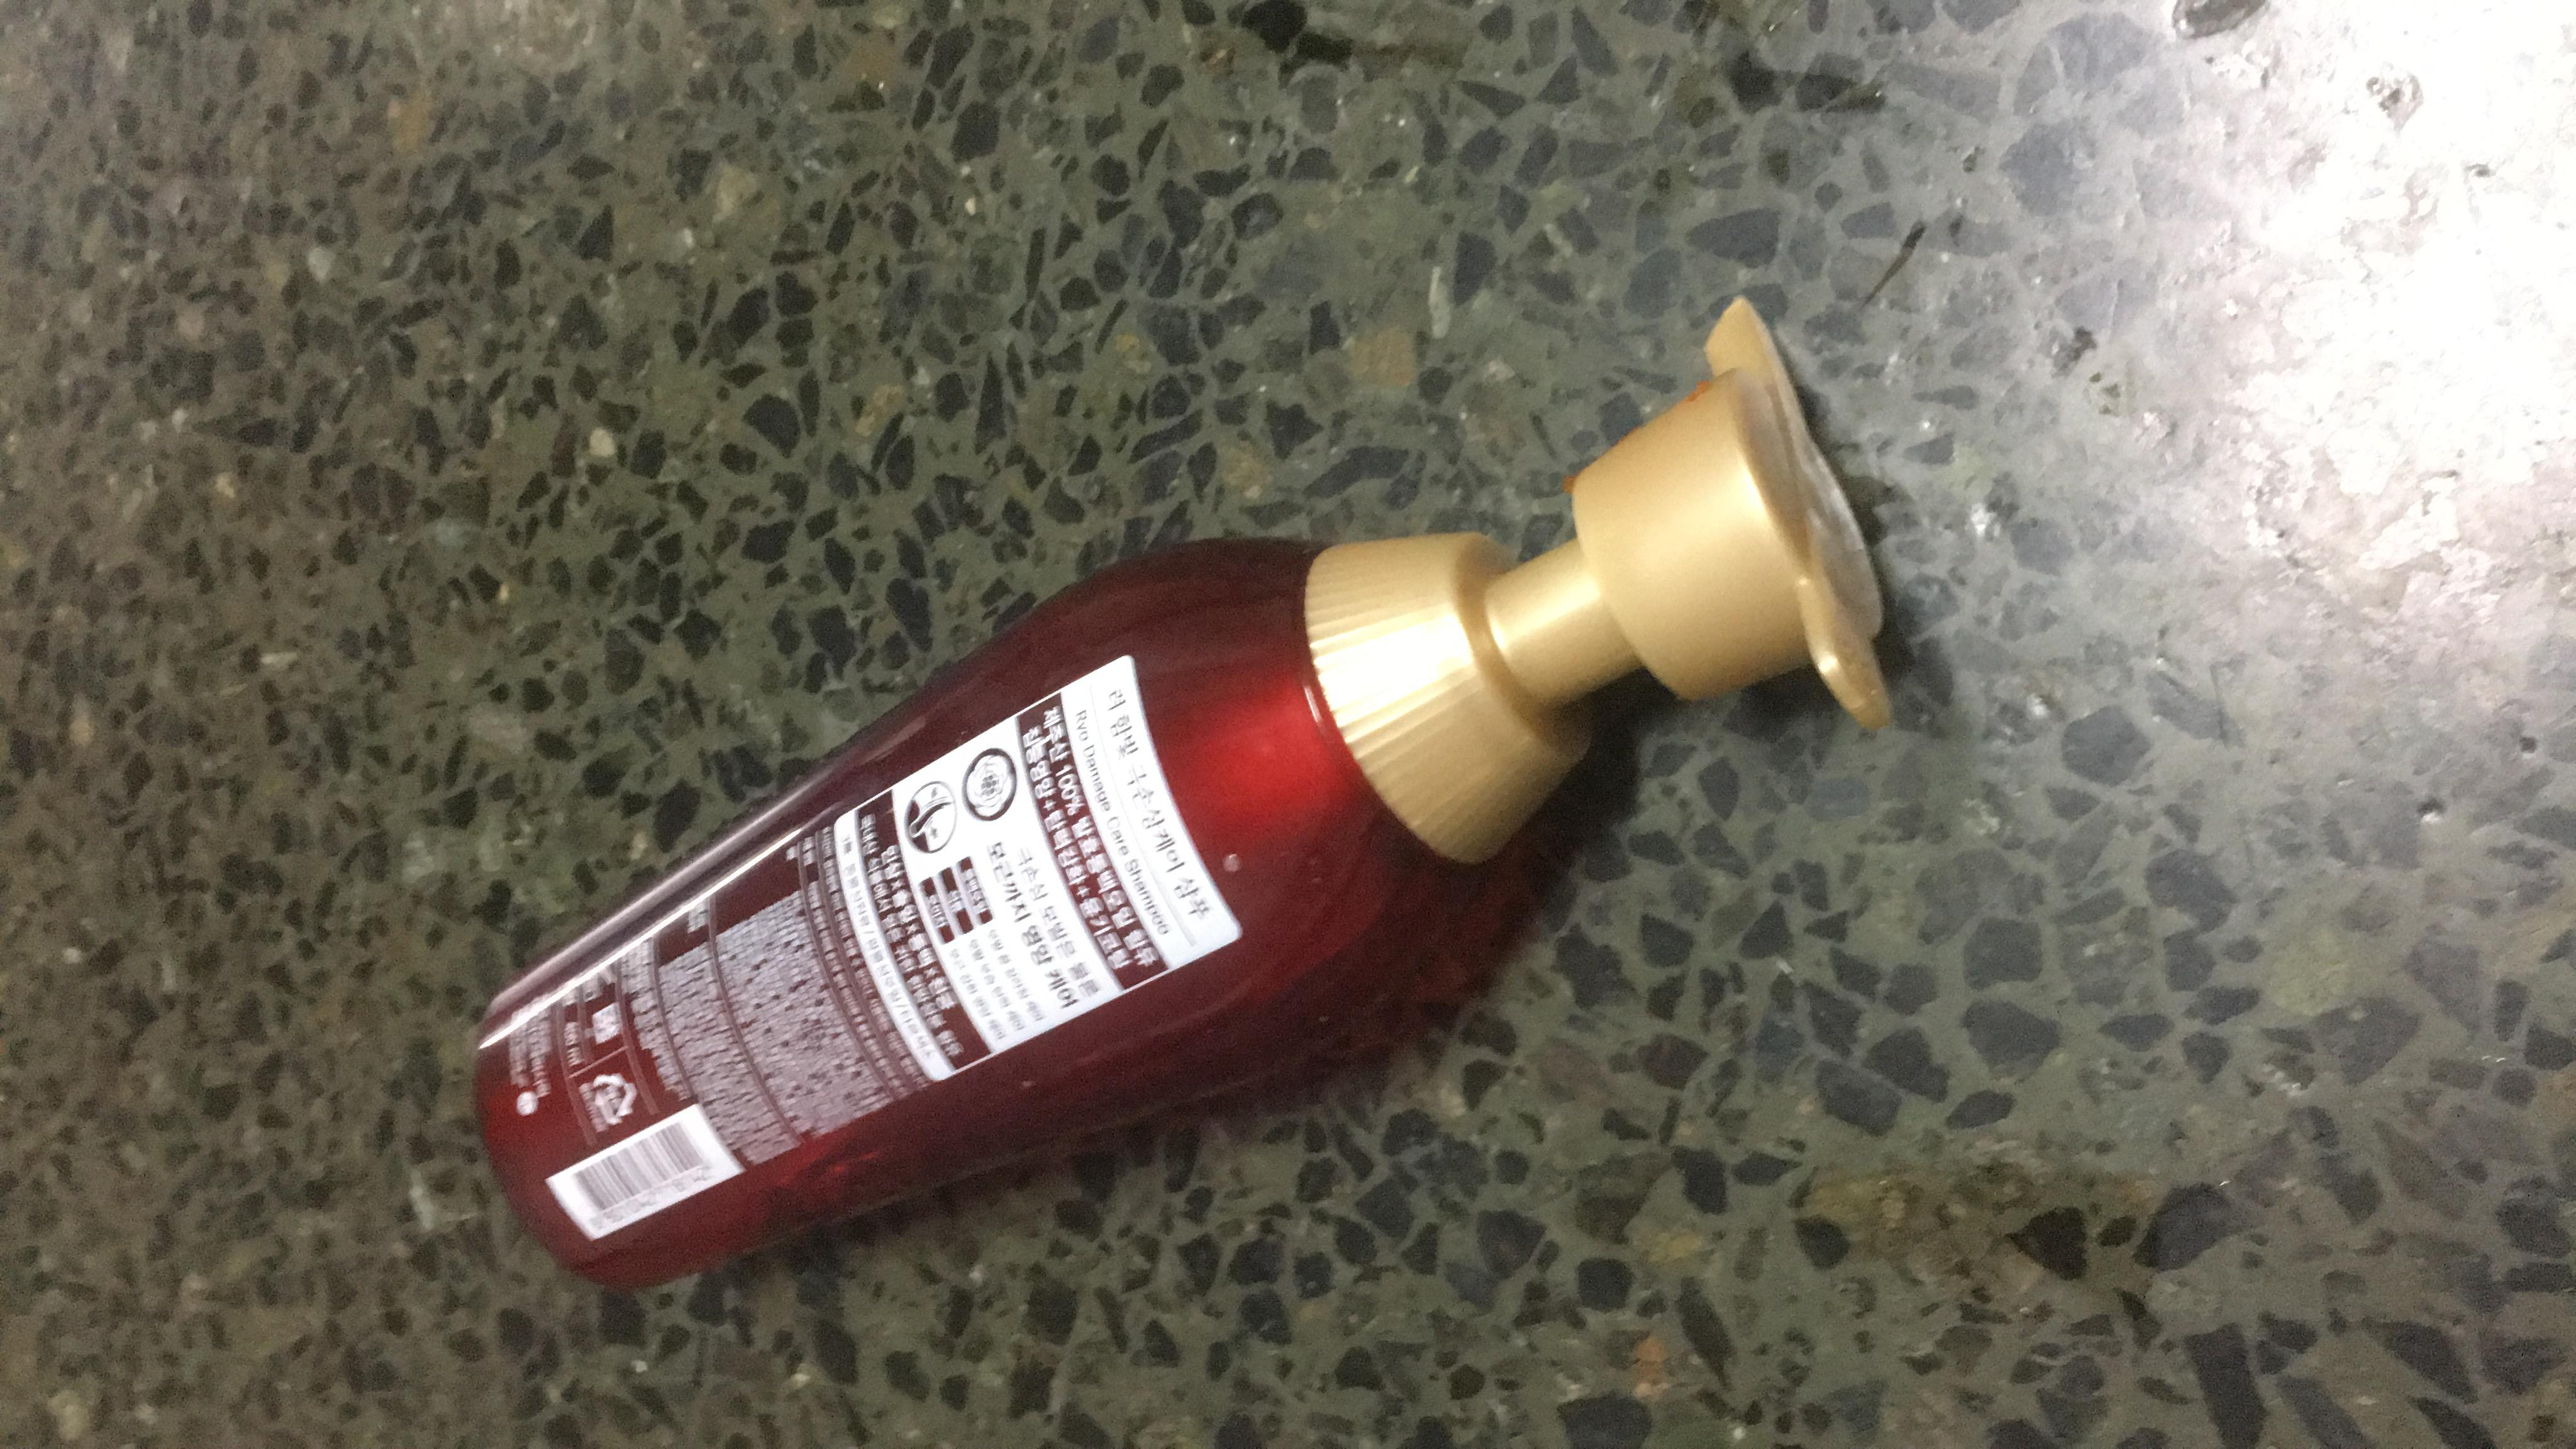bottle: (258, 150, 2038, 1069)
